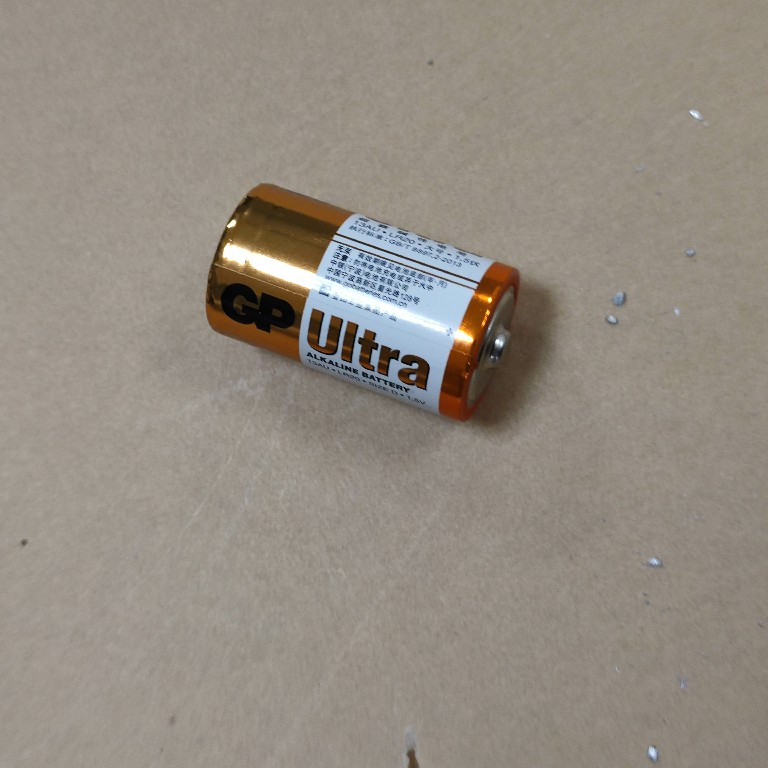charge: (197, 177, 525, 426)
